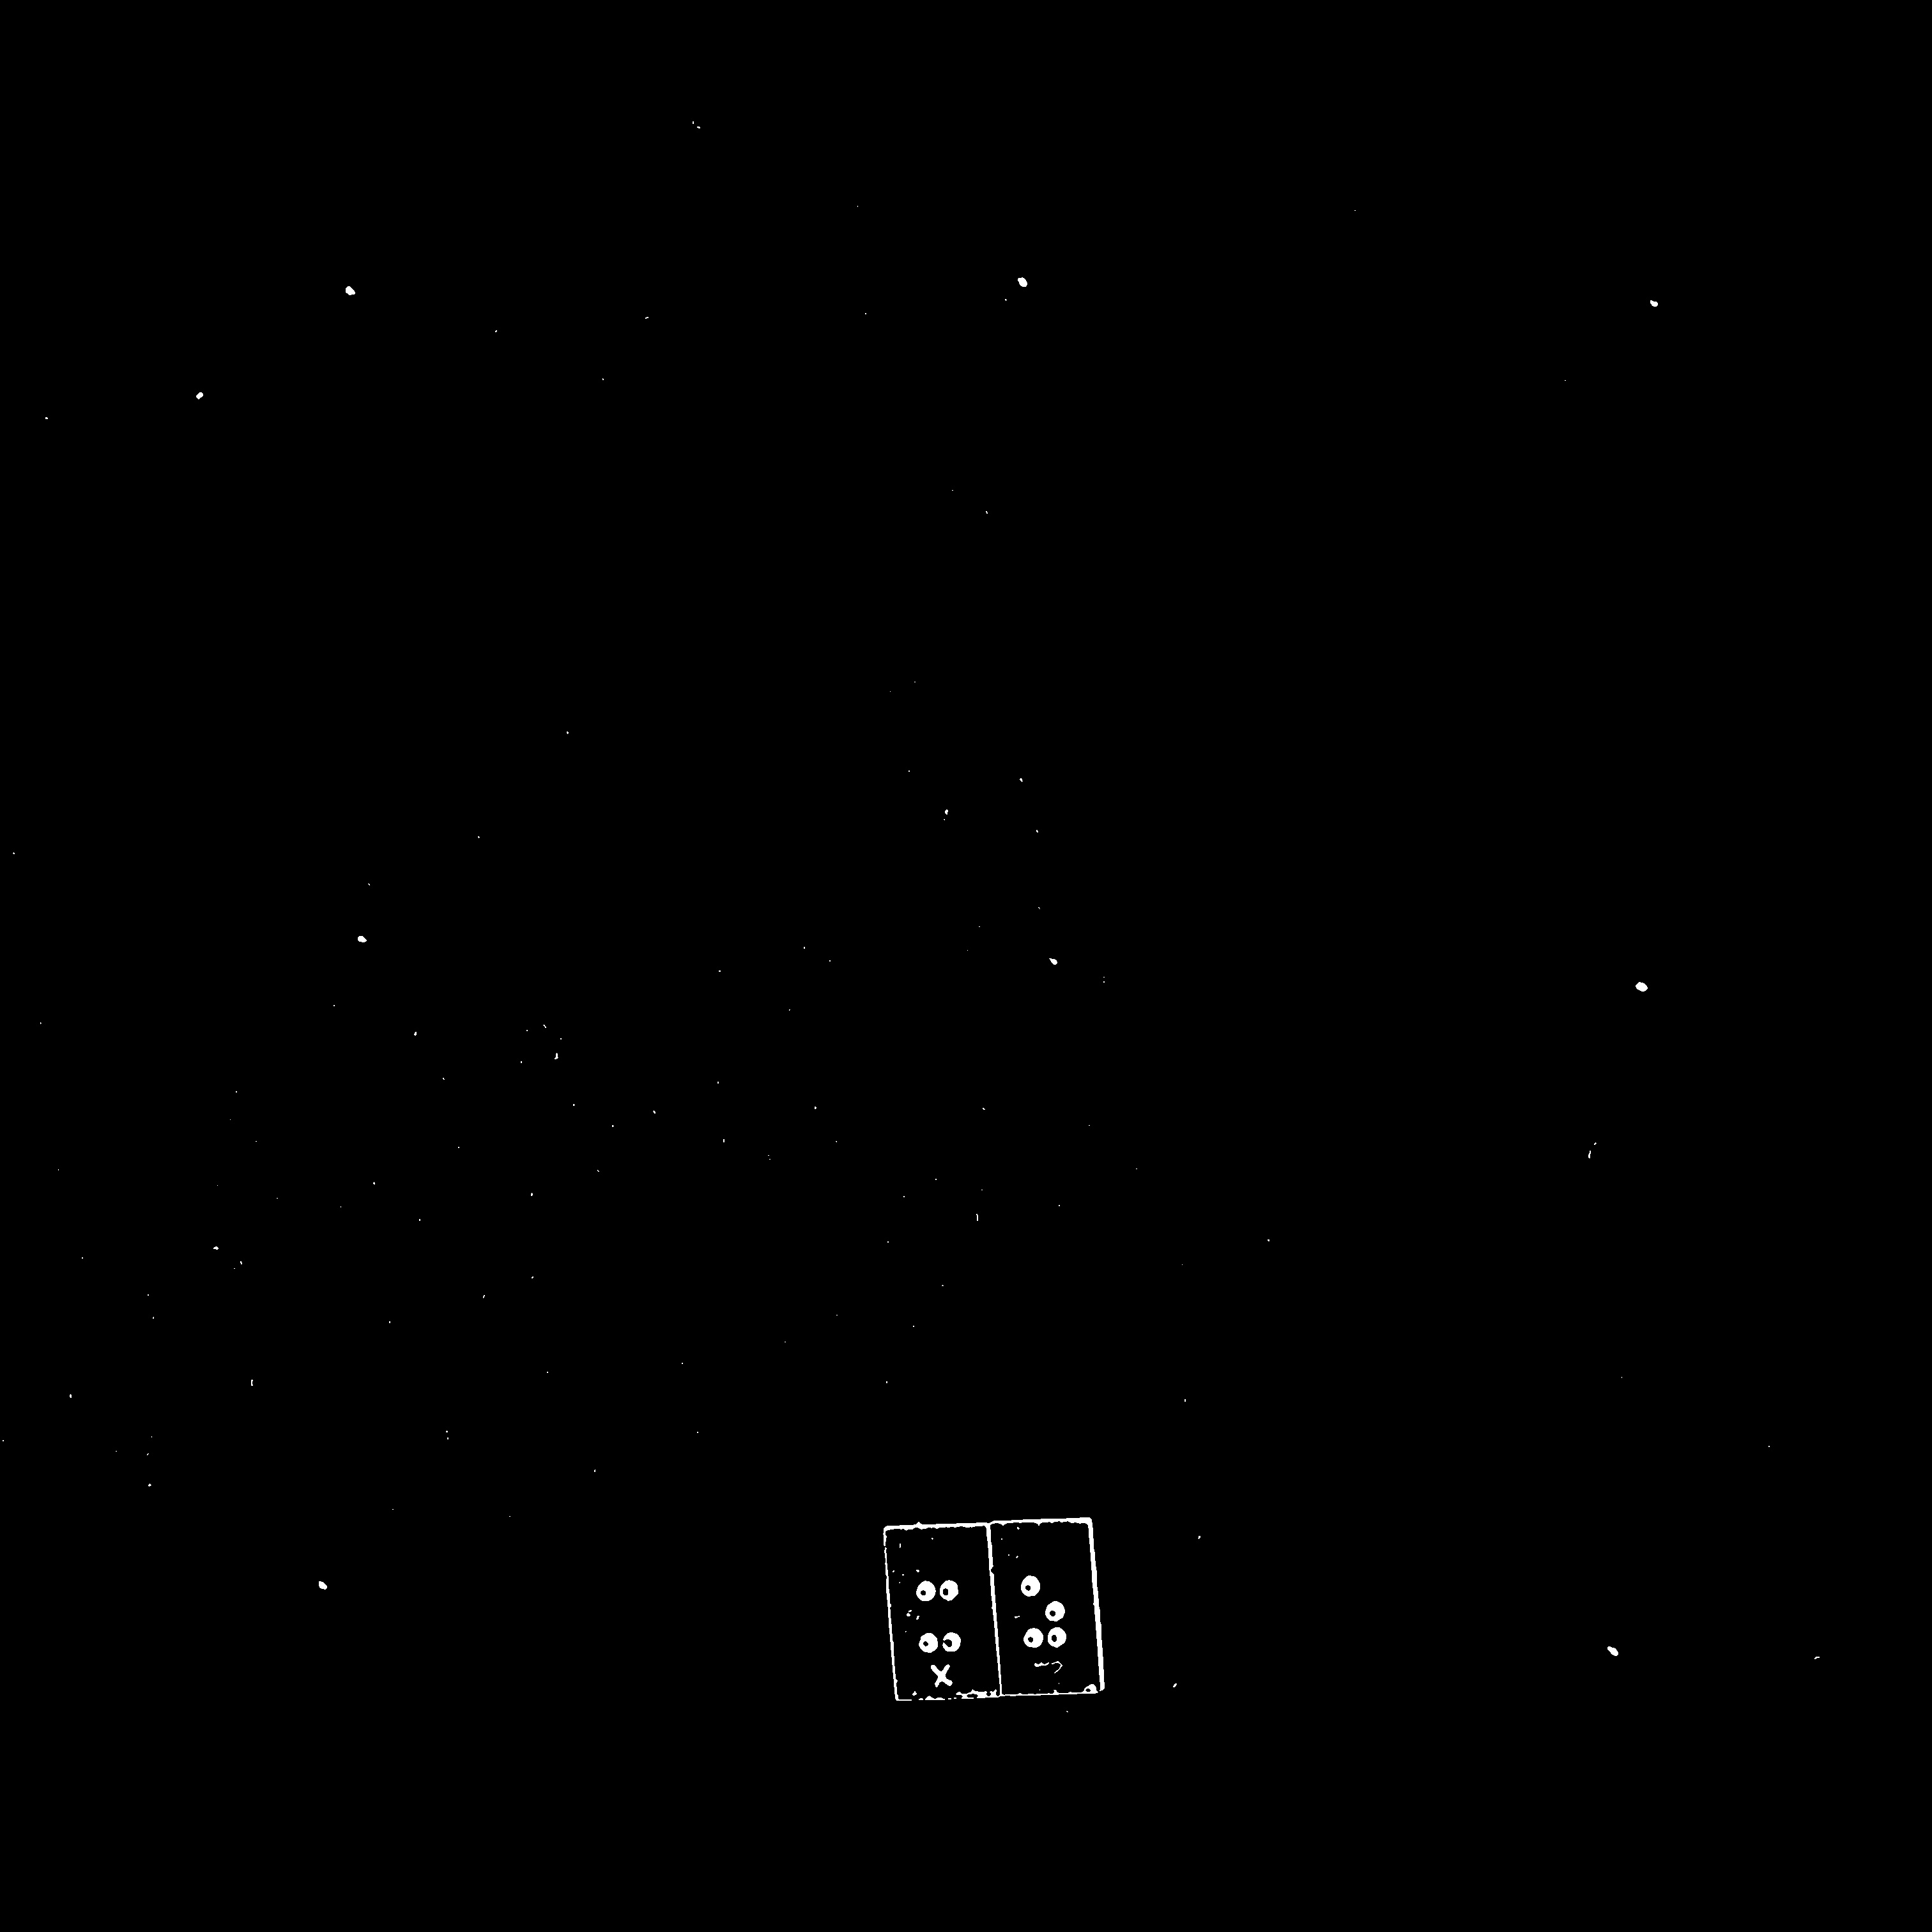x: (910, 1564, 972, 1654)
z: (1005, 1558, 1073, 1654)
